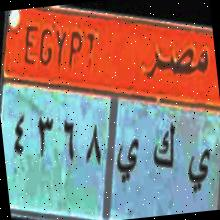3: (31, 107, 60, 165)
4: (7, 108, 31, 169)
6: (61, 114, 80, 167)
8: (81, 117, 104, 172)
kaaf: (148, 113, 180, 186)
yaa: (182, 138, 214, 199), (112, 132, 144, 191)
